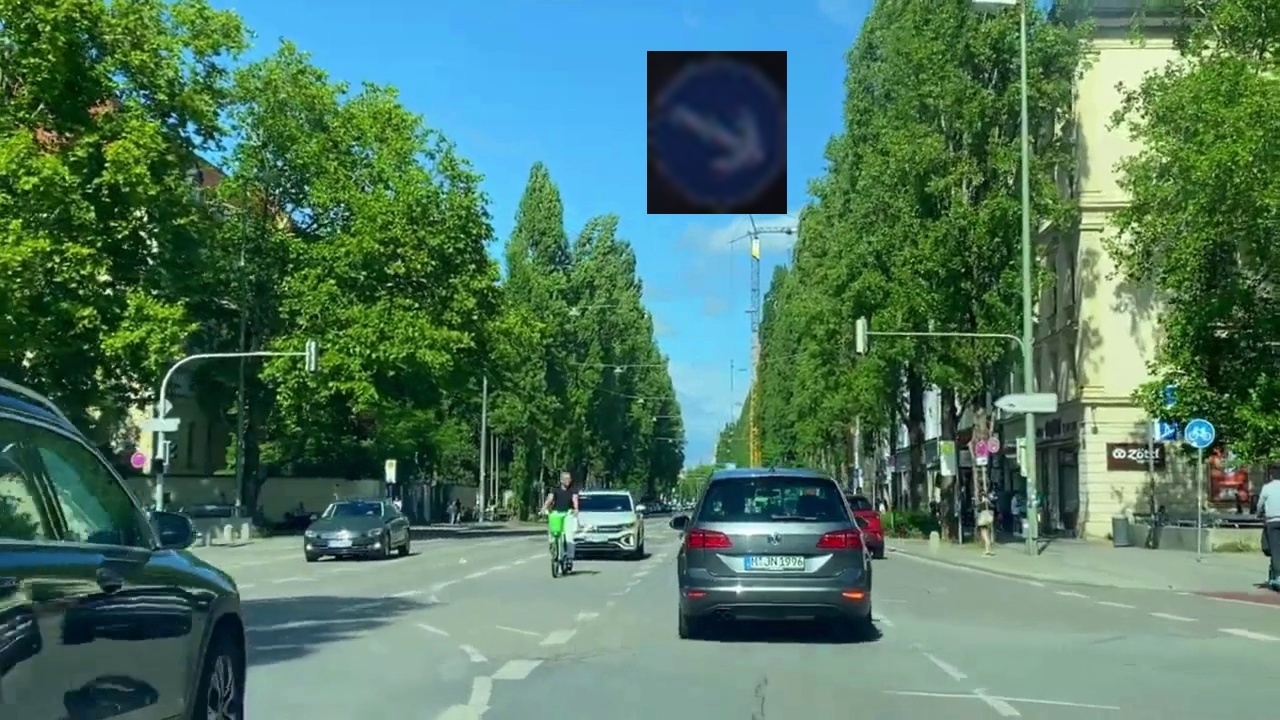Keep right: (647, 51, 787, 214)
